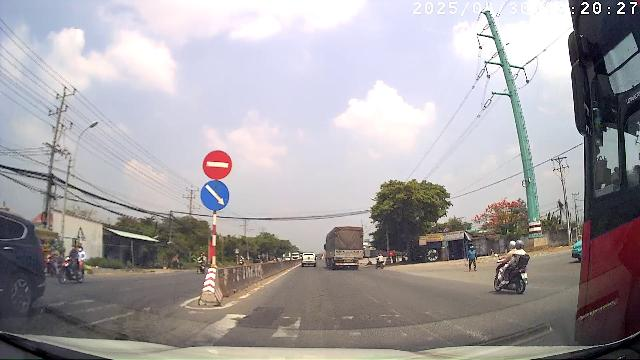102-cam-di-nguoc-chieu: (202, 149, 232, 179)
302a-huong-phai-di-vong-chuong-ngai-vat-1: (200, 180, 230, 211)
